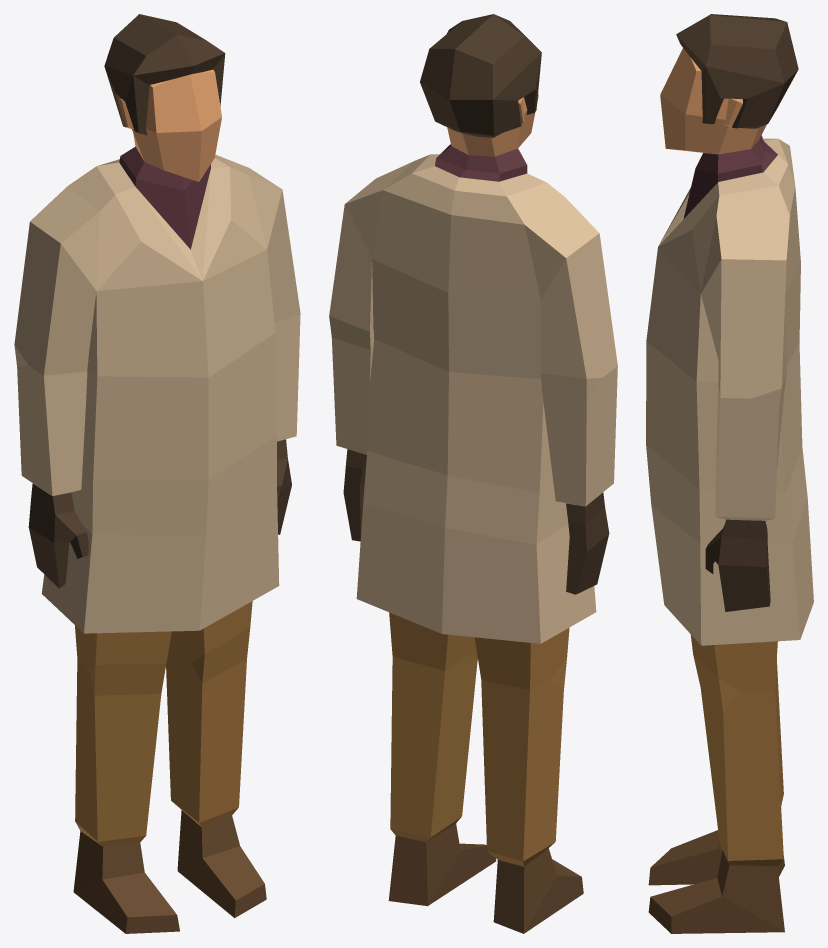
File: man-coat.fbx
3 renders of one model, left to right at view 1: azimuth 30°, elevation 25°; view 2: azimuth 150°, elevation 25°; view 3: azimuth 270°, elevation 25°, orthographic.
Visible parts, largest first — view 1: man-coat; view 2: man-coat; view 3: man-coat.
Part boxes in pixels (x1,y1,x2,y2): man-coat: (14, 14, 300, 933); man-coat: (329, 14, 617, 933); man-coat: (646, 14, 813, 933).
Size of the model in its own units: 0.5663 by 1.83 by 0.3151.
